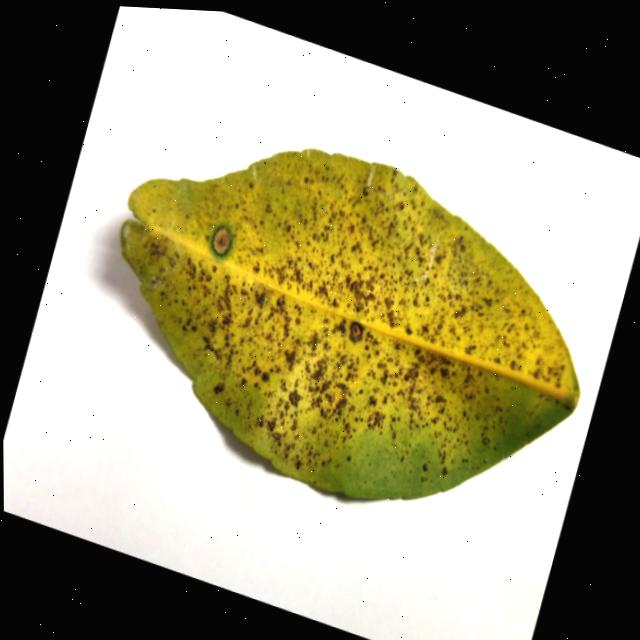melanose: (120, 148, 578, 497)
